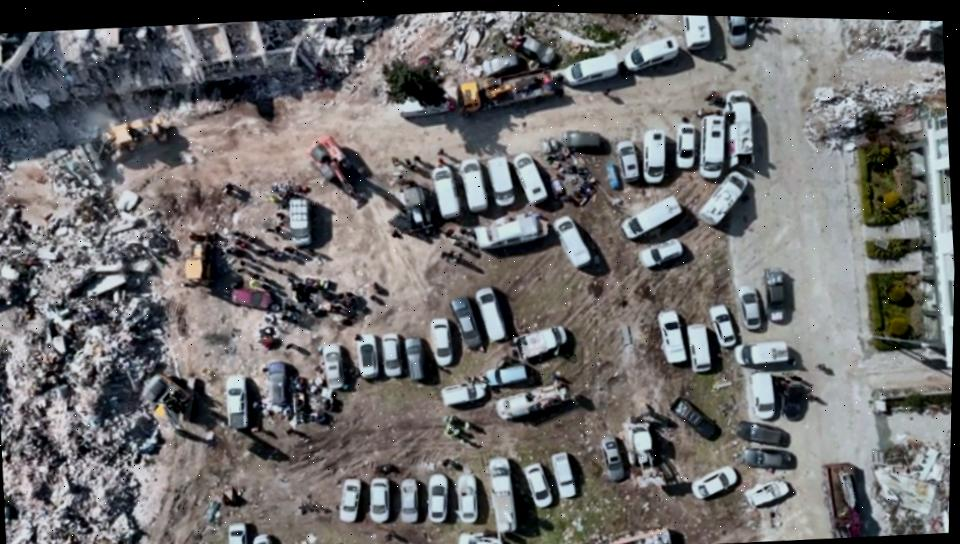kapali: (0, 107, 243, 223)
